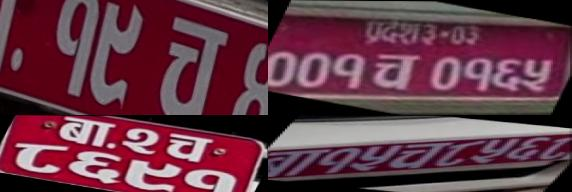0: (288, 48, 340, 90), (421, 54, 471, 94), (268, 46, 306, 90), (443, 24, 470, 45)
1: (32, 0, 109, 105), (319, 50, 379, 90), (173, 163, 246, 192), (453, 52, 503, 93), (306, 146, 362, 175)
2: (115, 124, 168, 156)
3: (412, 22, 444, 46), (459, 22, 486, 46)
4: (217, 31, 268, 115)
5: (512, 55, 558, 93), (346, 143, 402, 172), (465, 136, 518, 164)
6: (60, 146, 134, 186), (483, 57, 527, 92), (503, 135, 551, 161)
8: (0, 136, 74, 177), (428, 137, 485, 168), (535, 133, 572, 159)
9: (75, 0, 158, 115), (114, 153, 190, 192)
ba: (0, 0, 51, 88), (48, 116, 118, 148), (268, 144, 325, 180)
cha: (137, 5, 237, 115), (359, 49, 428, 93), (155, 130, 222, 164), (382, 140, 447, 170)
